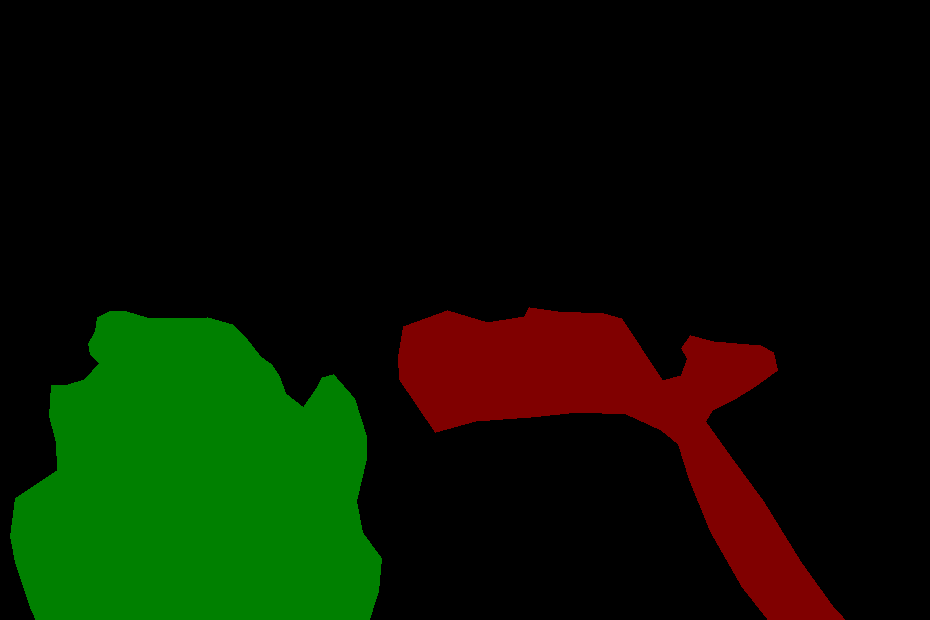fire: (398, 307, 884, 620), (10, 311, 381, 620)
